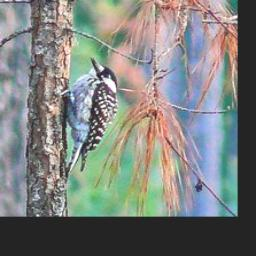Woodpecker: (45, 51, 127, 187)
